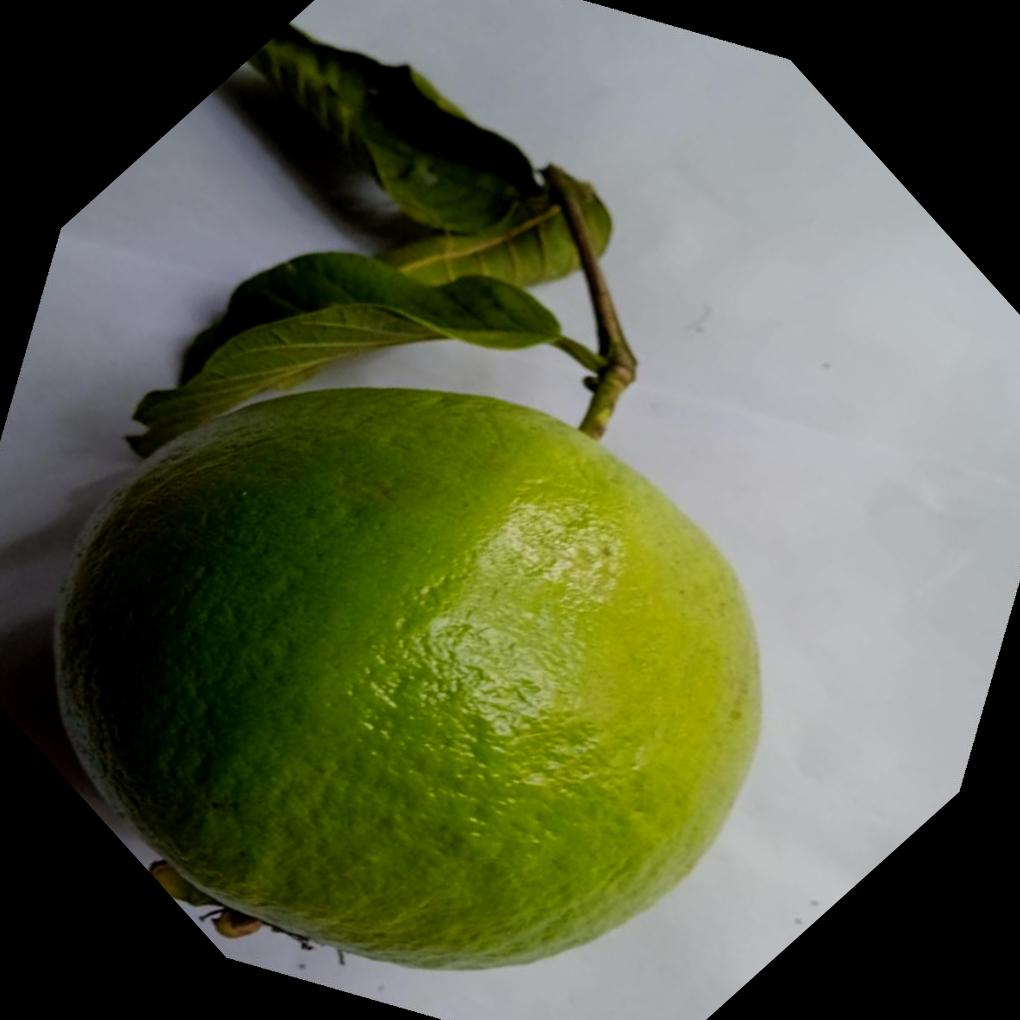FreshGuava: (51, 28, 767, 975)
